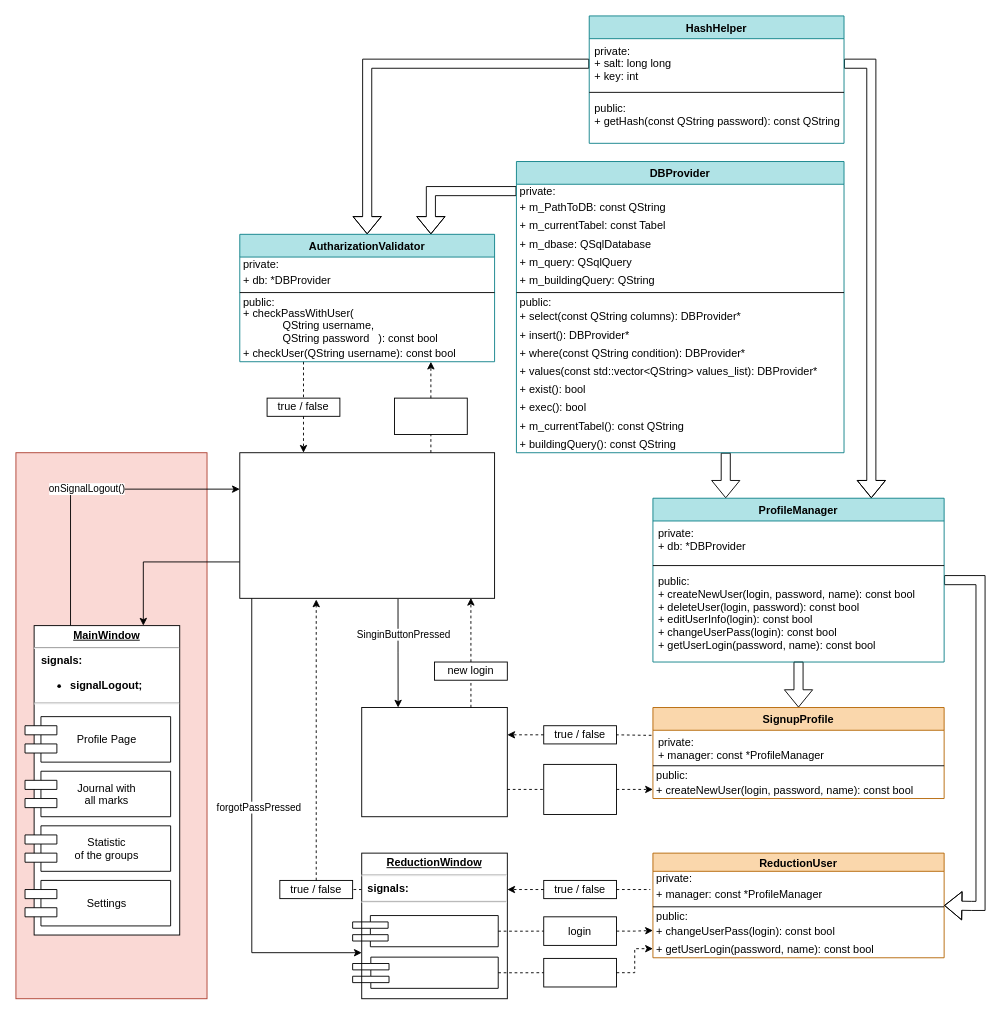
Image size: 1001x1015. Some labels were removed from this diagram. Each missing label, with the centre of its shape:
"login password" goes at point 430,416.
"login password name" goes at point 580,788.
"password name" goes at point 580,972.
"Reductuction password" goes at point 425,931.
"Remember login" goes at point 425,972.
"SinginWindow signals:" goes at point 367,525.
"SingupWindow signals:" goes at point 434,762.
